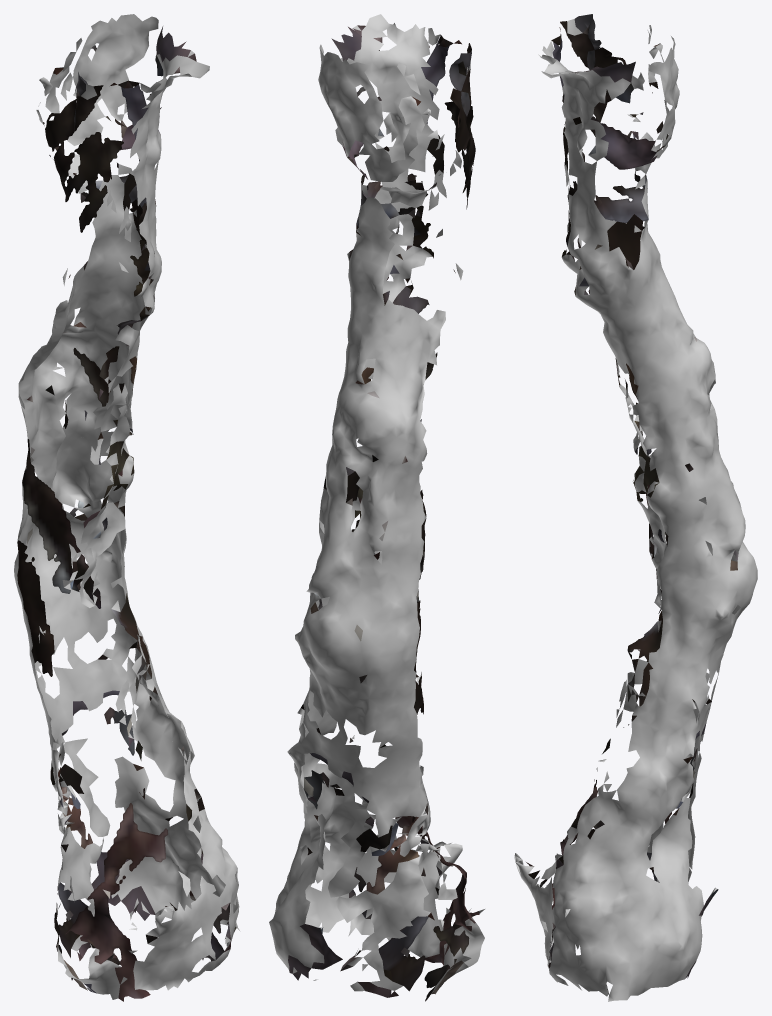
File: Toke_3_bottom.obj
3 renders of one model, left to right at view 1: azimuth 30°, elevation 25°; view 2: azimuth 150°, elevation 25°; view 3: azimuth 270°, elevation 25°, orthographic.
Bounding box in the file's own units: 41.93 × 201 × 47.58.
